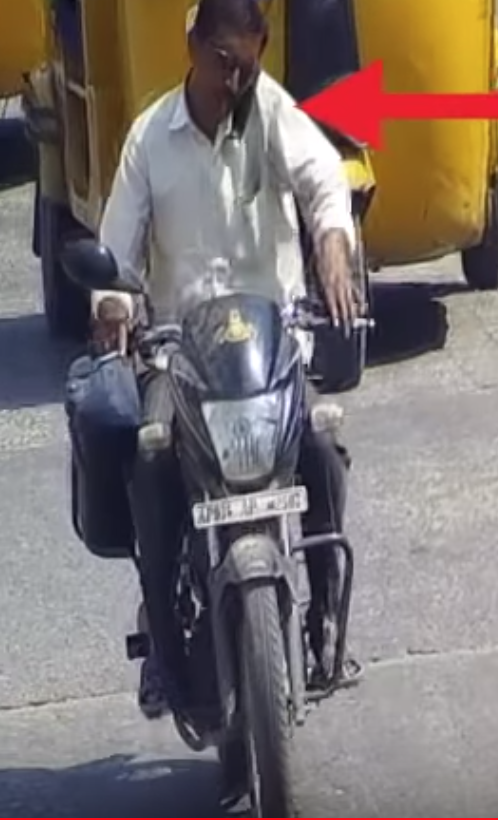h_bike: (92, 7, 310, 820)
h_nohelmet: (166, 2, 277, 147)
numplate: (184, 485, 323, 528)
